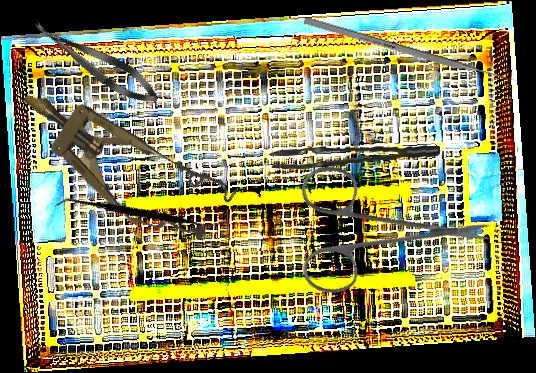Iris Scissors: (253, 108, 497, 352)
Micro Scissor: (26, 11, 166, 113)
Pusher: (303, 16, 519, 86)
Spatula Surgical: (54, 145, 223, 283)
Speculum: (0, 60, 240, 262)
Tissue Forceps: (268, 134, 441, 180)
